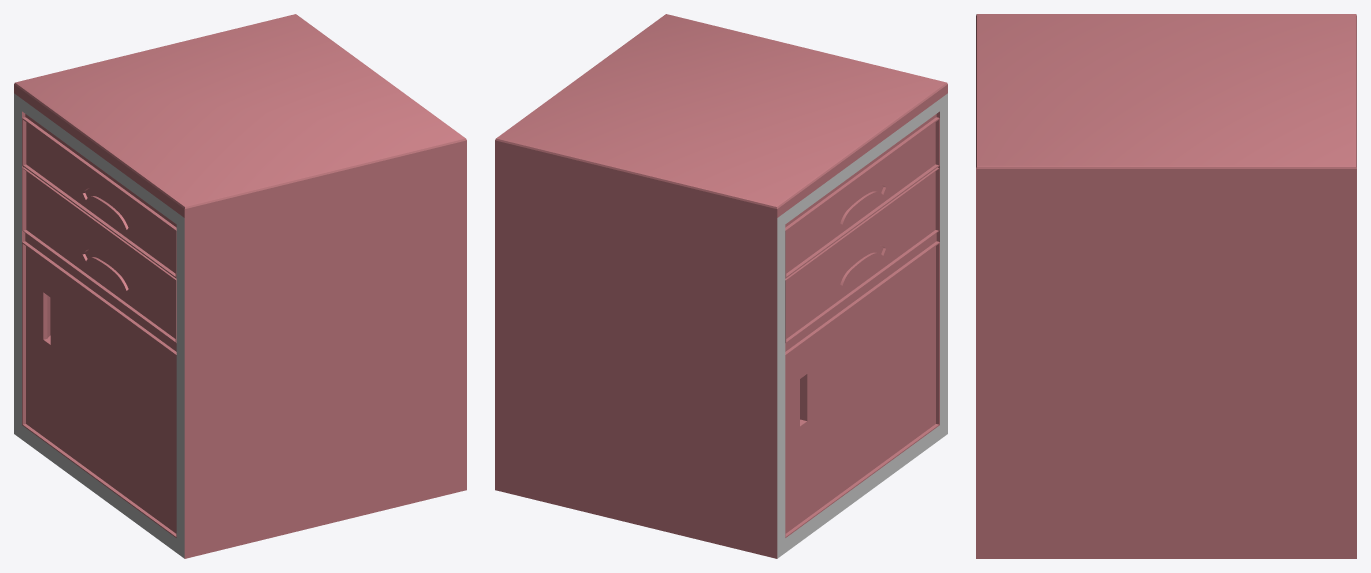
Rendered from 床頭櫃.fbx.
3 renders of one model, left to right at view 1: azimuth 30°, elevation 25°; view 2: azimuth 150°, elevation 25°; view 3: azimuth 270°, elevation 25°, orthographic. The views are drawn at different scales.
Visible parts, largest first — view 1: Box264; view 2: Box264; view 3: Box264.
Part boxes in pixels (x1,y1,x2,y2): Box264: (14,14,466,558); Box264: (495,14,947,558); Box264: (976,14,1356,558).
Size of the model in its own units: 31.87 by 38.01 by 33.41.
